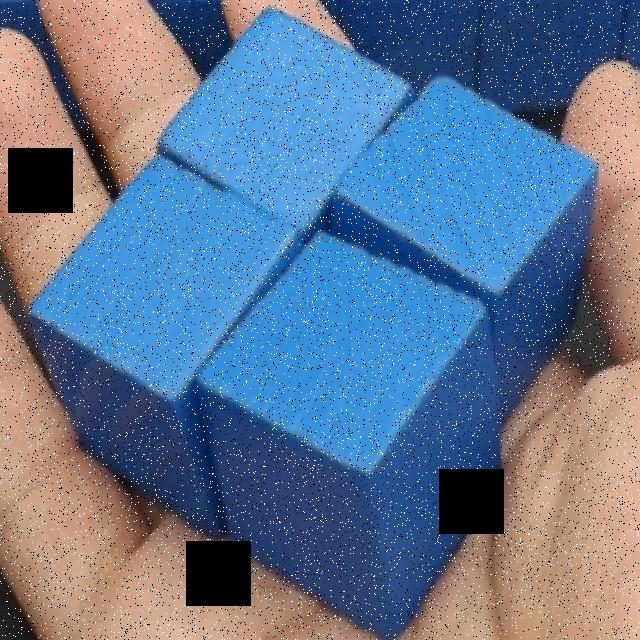bluecube: (193, 234, 504, 640), (23, 154, 304, 542), (327, 72, 600, 431), (158, 7, 419, 246)
